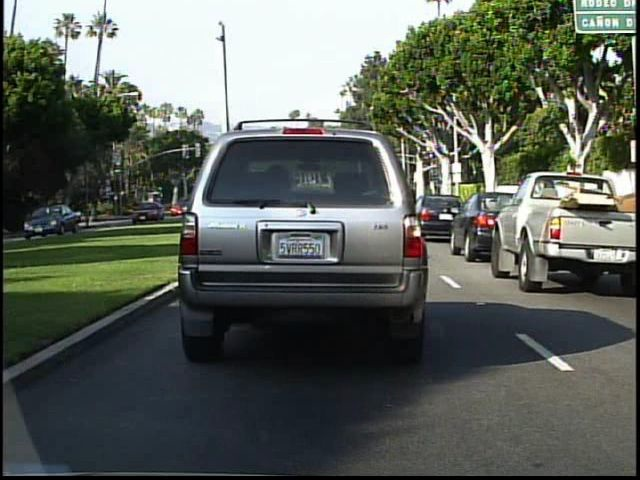person: (72, 204, 86, 227)
